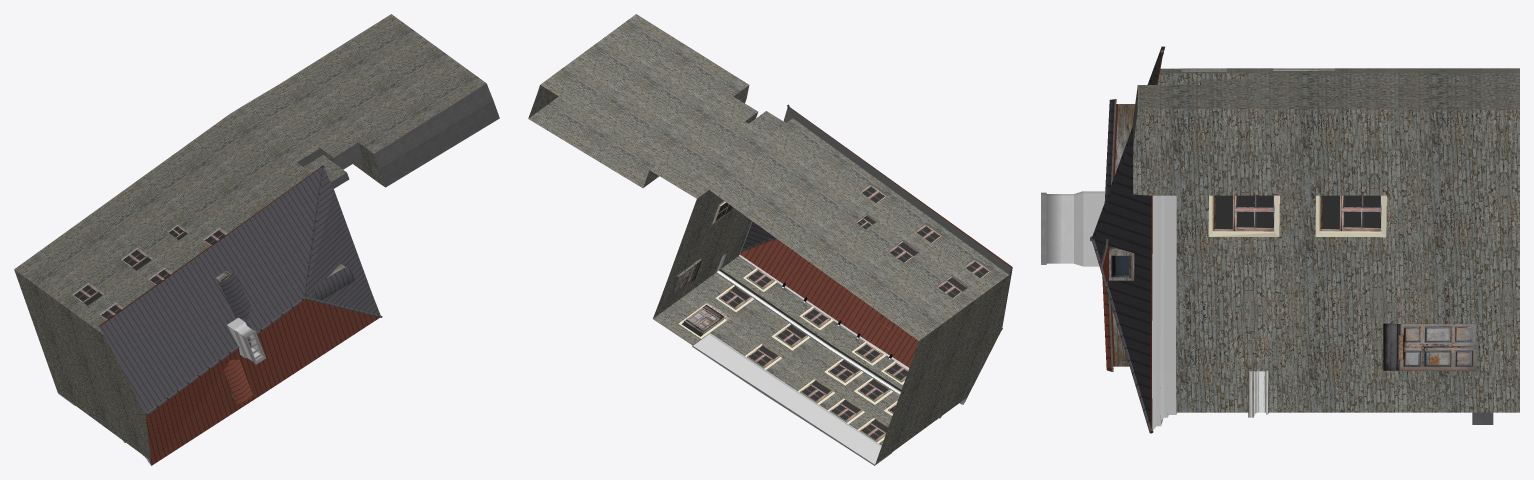
Rendered from Kooli_9.obj.
3 views of the same model, side by side, from view 1: azimuth 30°, elevation 25°; view 2: azimuth 150°, elevation 25°; view 3: azimuth 270°, elevation 25° (orthographic). The views are drawn at different scales.
Parts seen in each view (by area): view 1: Kooli_9; view 2: Kooli_9; view 3: Kooli_9.
Boxes of the visible parts, left/top/right/bottom form: Kooli_9: left=14, top=14, right=499, bottom=465; Kooli_9: left=528, top=14, right=1012, bottom=465; Kooli_9: left=1041, top=46, right=1519, bottom=433.
Size of the model in its own units: 28.07 by 20.82 by 14.8.
